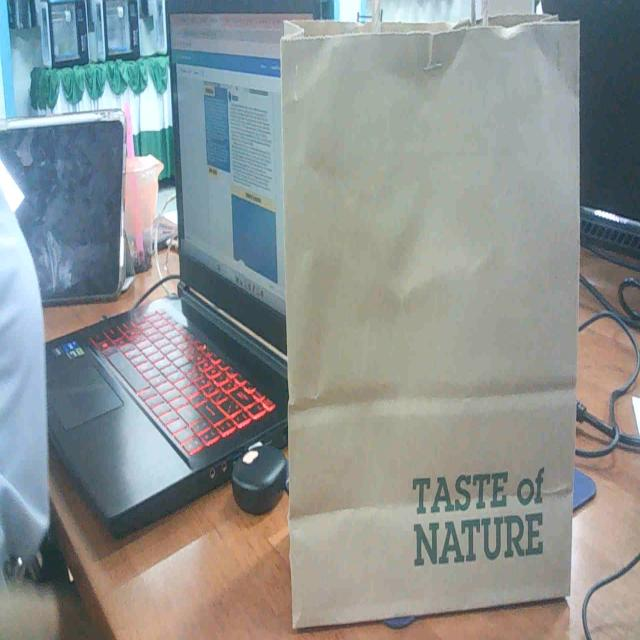bag: (268, 25, 591, 624)
